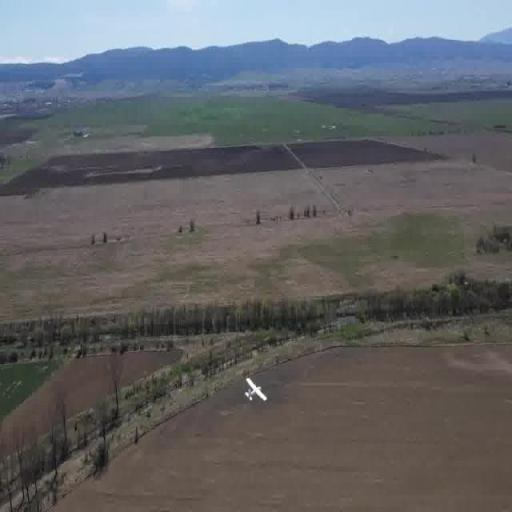uav: (239, 375, 273, 408)
